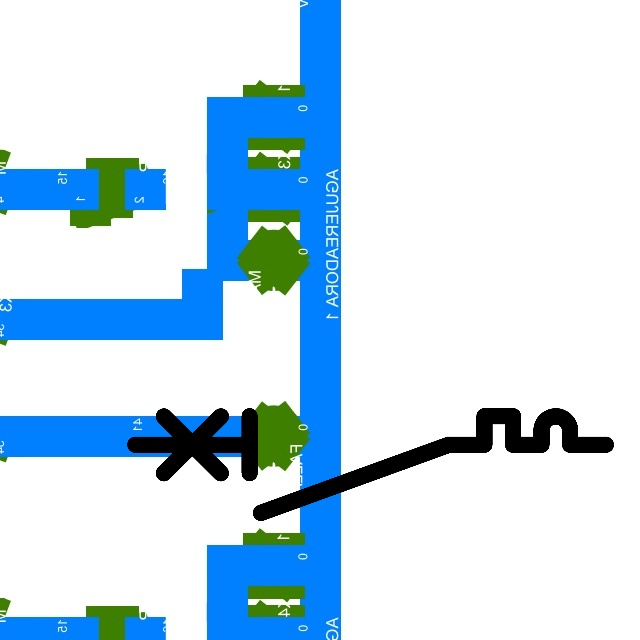interruptor_termomagnetico: (123, 404, 618, 525)
